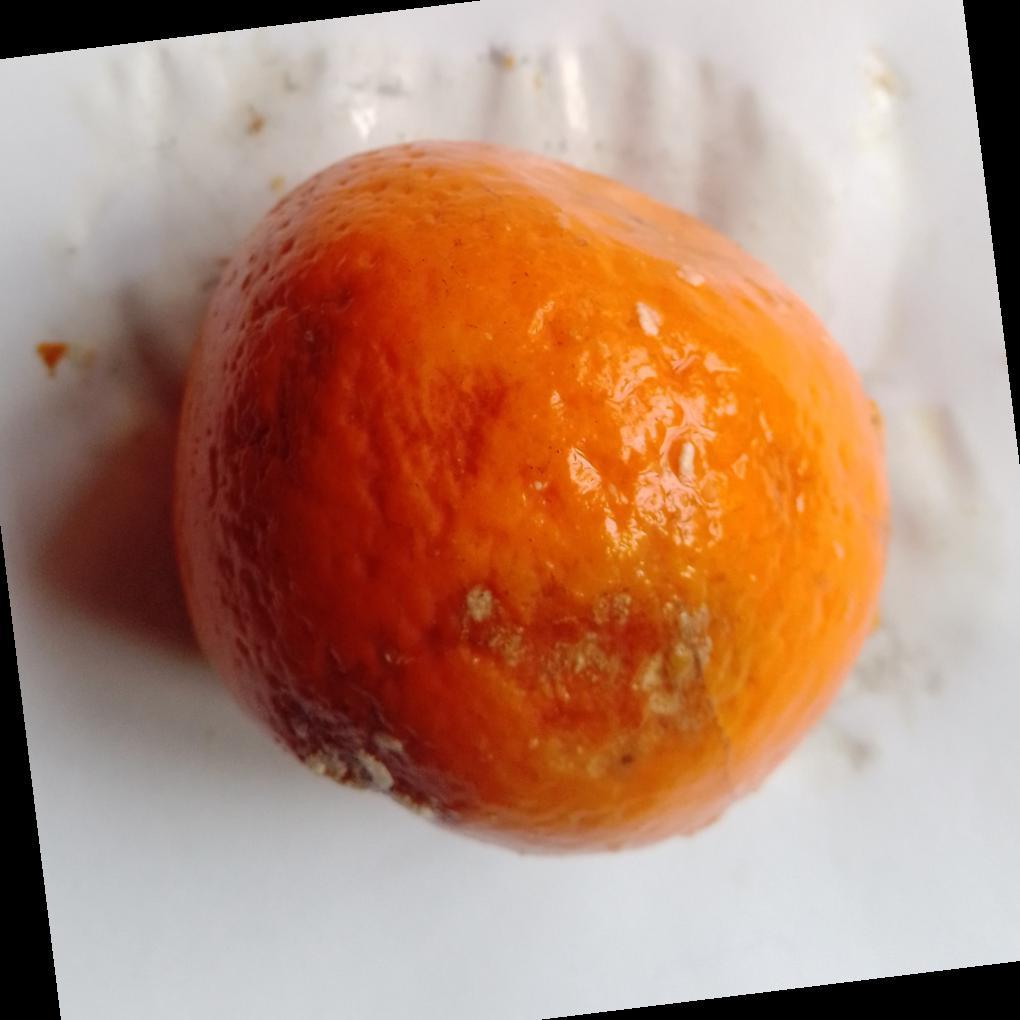FreshOrange: (170, 141, 891, 861)
